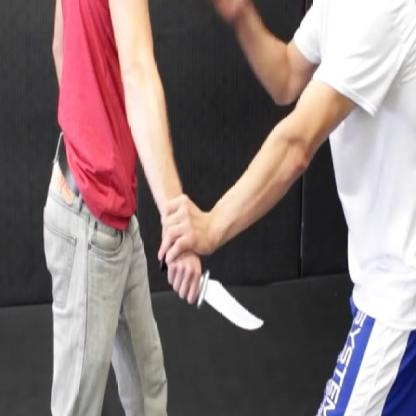knife: (157, 250, 269, 342)
